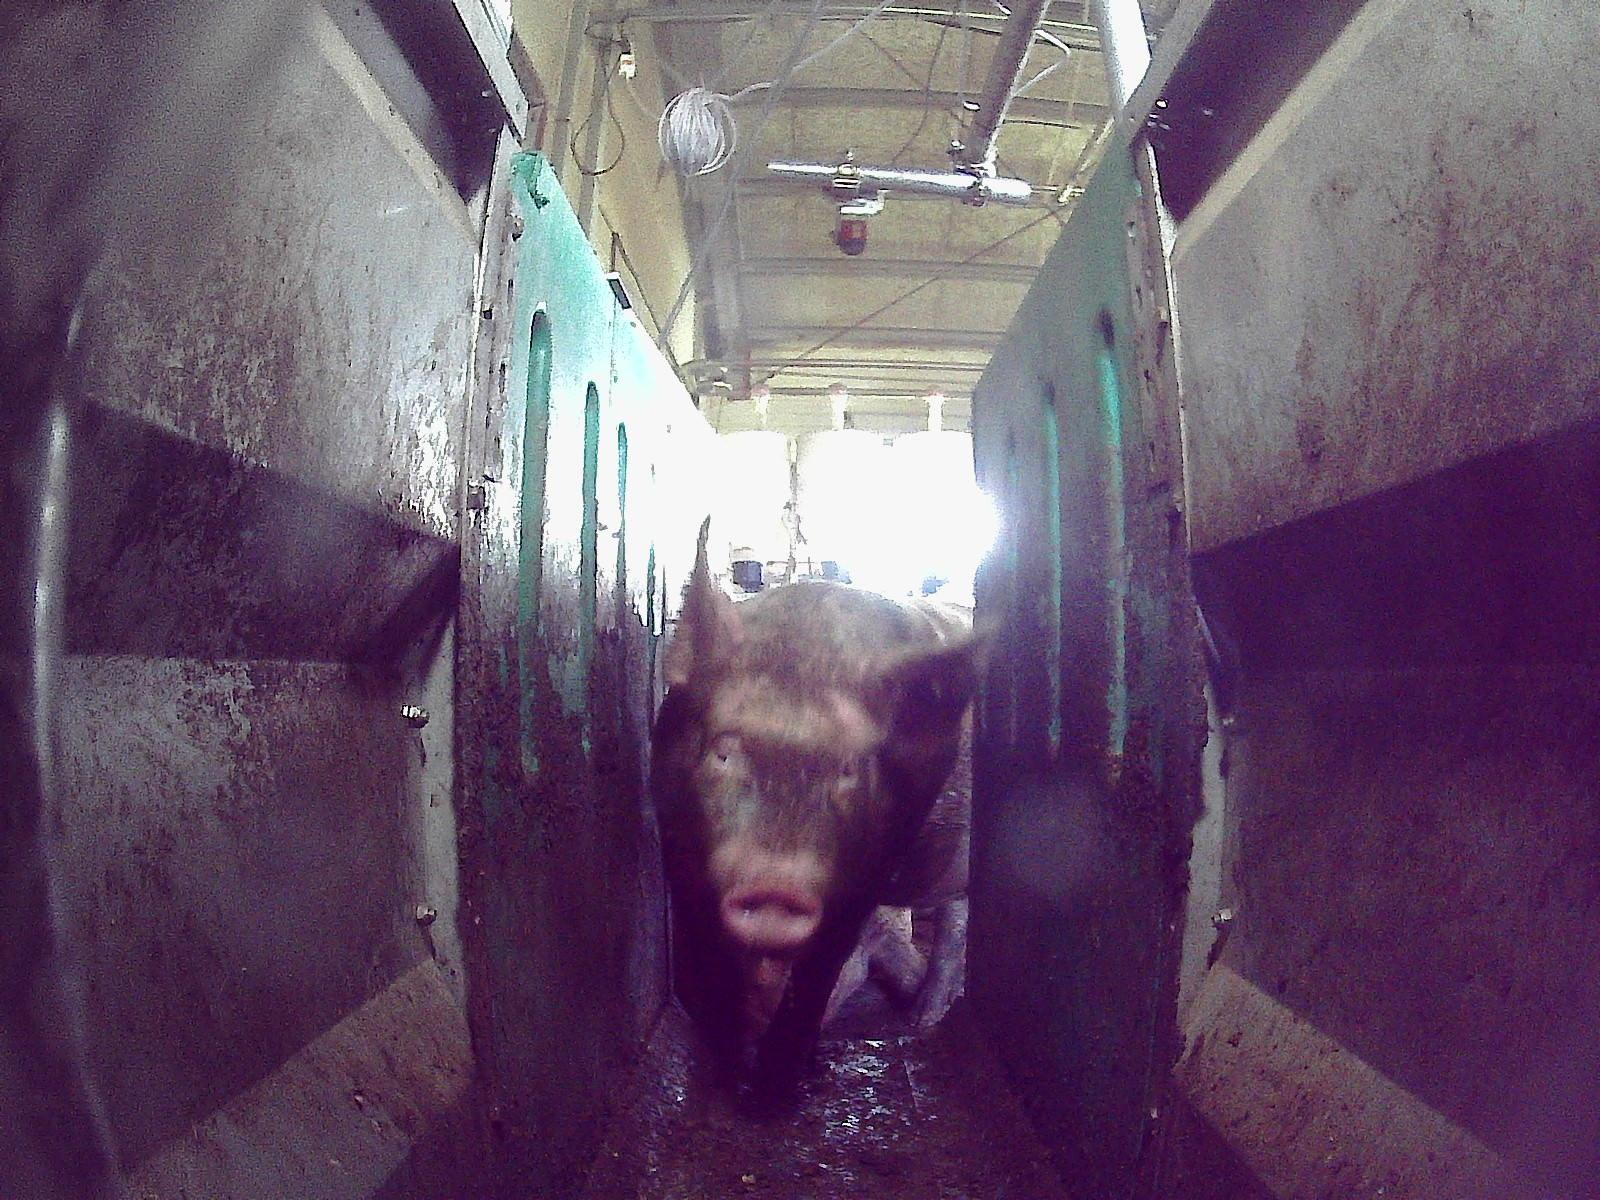Face: (692, 637, 889, 985)
